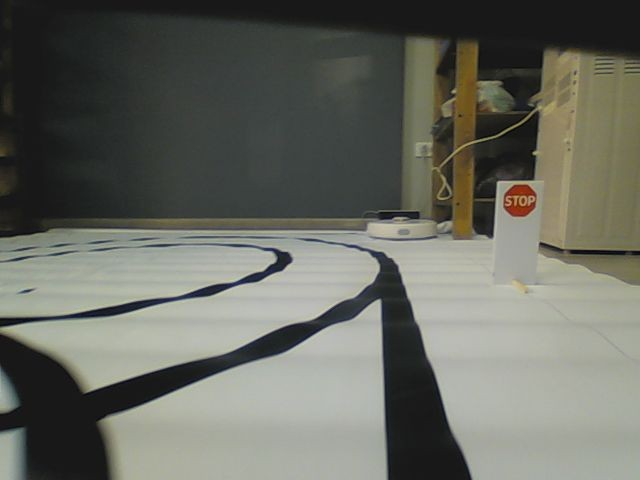Stop: (500, 181, 539, 219)
